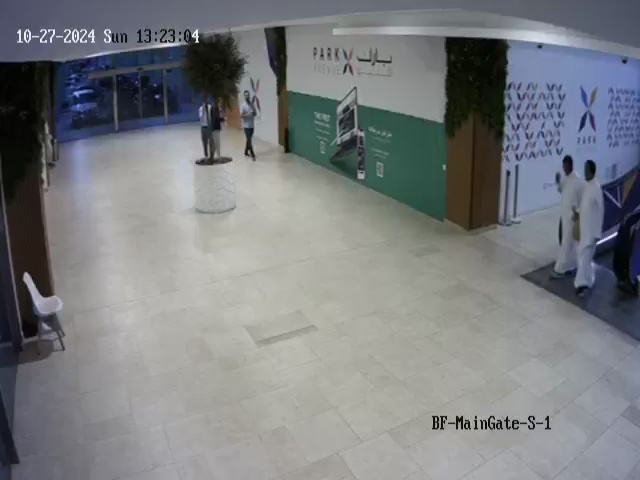male: (572, 159, 604, 297), (549, 155, 582, 279), (240, 89, 257, 160), (209, 94, 226, 161), (196, 93, 211, 157)
